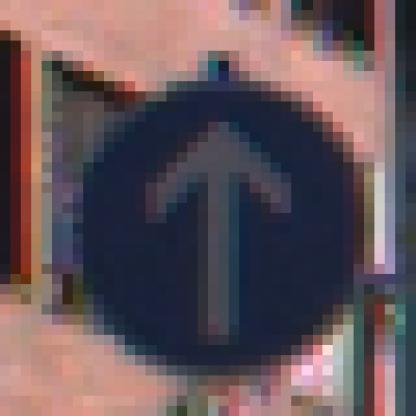AheadOnly: (53, 62, 355, 356)
